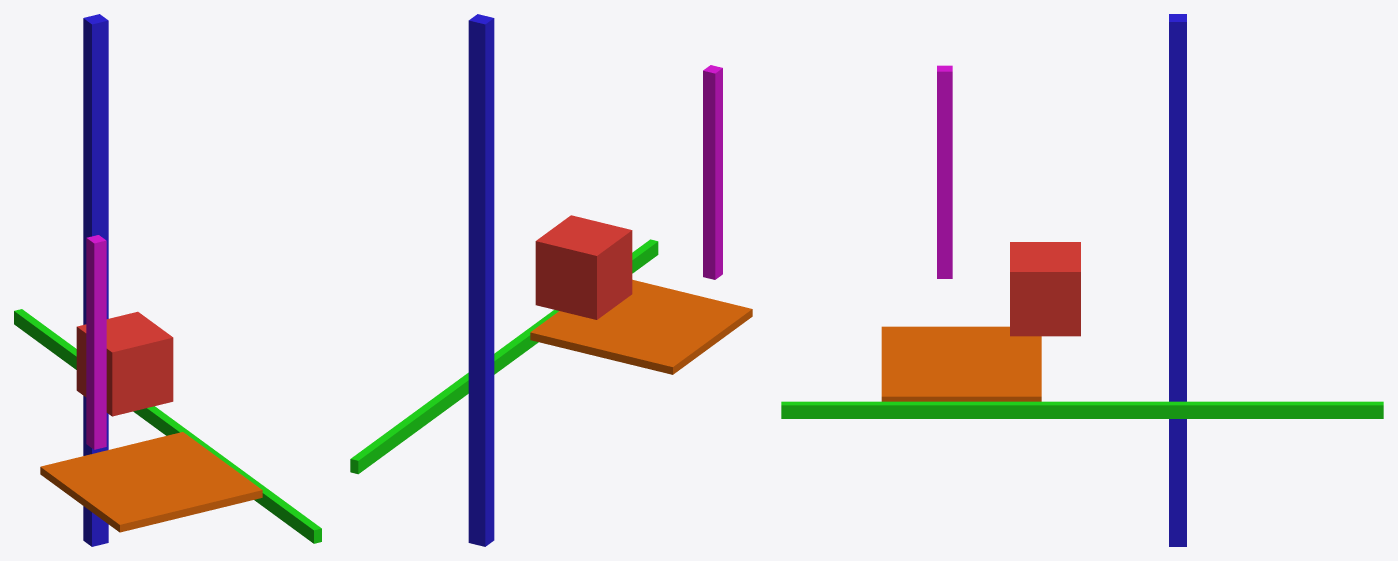
Rendered from SM_Deccer_Cubes_Colored.glb.
3 renders of one model, left to right at view 1: azimuth 30°, elevation 25°; view 2: azimuth 150°, elevation 25°; view 3: azimuth 270°, elevation 25°, orthographic.
Visible parts, largest first — view 1: Cube.004, Cube.002, Cube, Cube.003, Cube.001; view 2: Cube.002, Cube.004, Cube, Cube.003, Cube.001; view 3: Cube.004, Cube.001, Cube.002, Cube, Cube.003.
Boxes of the visible parts, box(x1,y1,x2,y2) form: Cube.004: box(40, 432, 262, 532); Cube.002: box(83, 14, 108, 546); Cube: box(76, 311, 173, 416); Cube.003: box(86, 235, 106, 449); Cube.001: box(14, 309, 321, 543); Cube.002: box(468, 14, 494, 546); Cube.004: box(530, 279, 752, 374); Cube: box(535, 215, 632, 319); Cube.003: box(703, 65, 722, 279); Cube.001: box(350, 239, 658, 474); Cube.004: box(881, 326, 1041, 401); Cube.001: box(781, 401, 1383, 418); Cube.002: box(1169, 14, 1186, 546); Cube: box(1010, 242, 1080, 336); Cube.003: box(937, 65, 952, 278).
Size of the model in its own units: 4.97 by 16.3 by 16.96.
